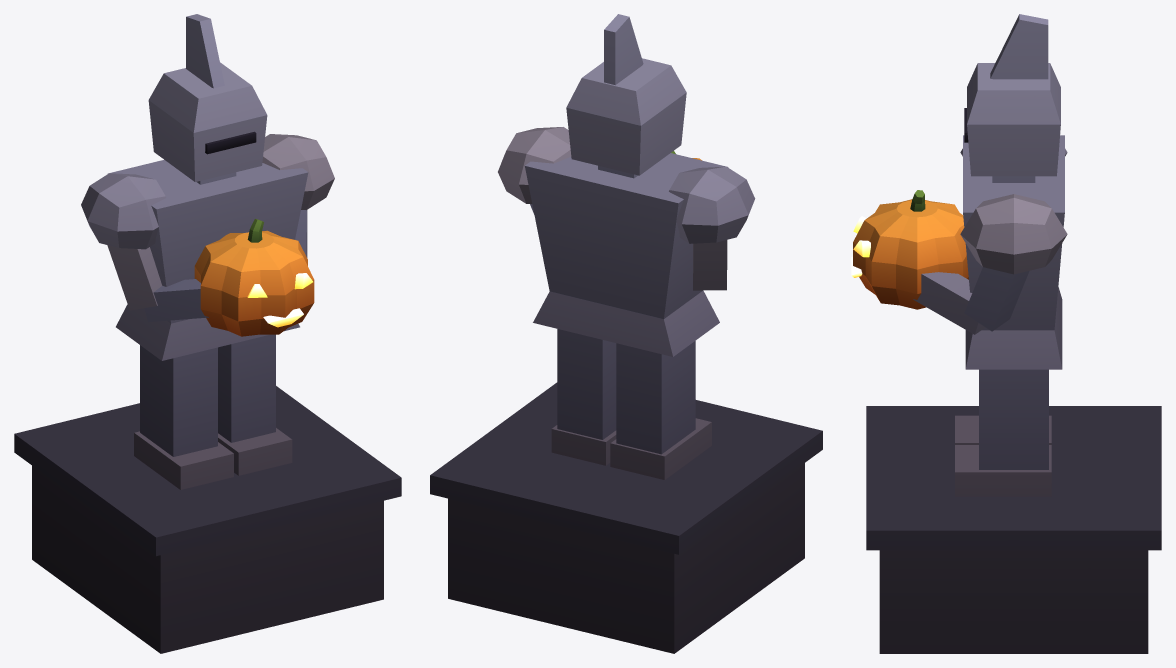
The model's file is PlayGround_Kit_Statue_Knight.fbx.
3 renders of one model, left to right at view 1: azimuth 30°, elevation 25°; view 2: azimuth 150°, elevation 25°; view 3: azimuth 270°, elevation 25°, orthographic. The views are drawn at different scales.
Parts seen in each view (by area): view 1: PlayGround_Kit_Statue_Knight; view 2: PlayGround_Kit_Statue_Knight; view 3: PlayGround_Kit_Statue_Knight.
Part boxes in pixels (box(x1,y1,x2,y2)): PlayGround_Kit_Statue_Knight: box(14, 14, 401, 653); PlayGround_Kit_Statue_Knight: box(430, 14, 822, 653); PlayGround_Kit_Statue_Knight: box(851, 14, 1161, 653).
Bounding box in the file's own units: 1.1 × 2.39 × 1.16.
